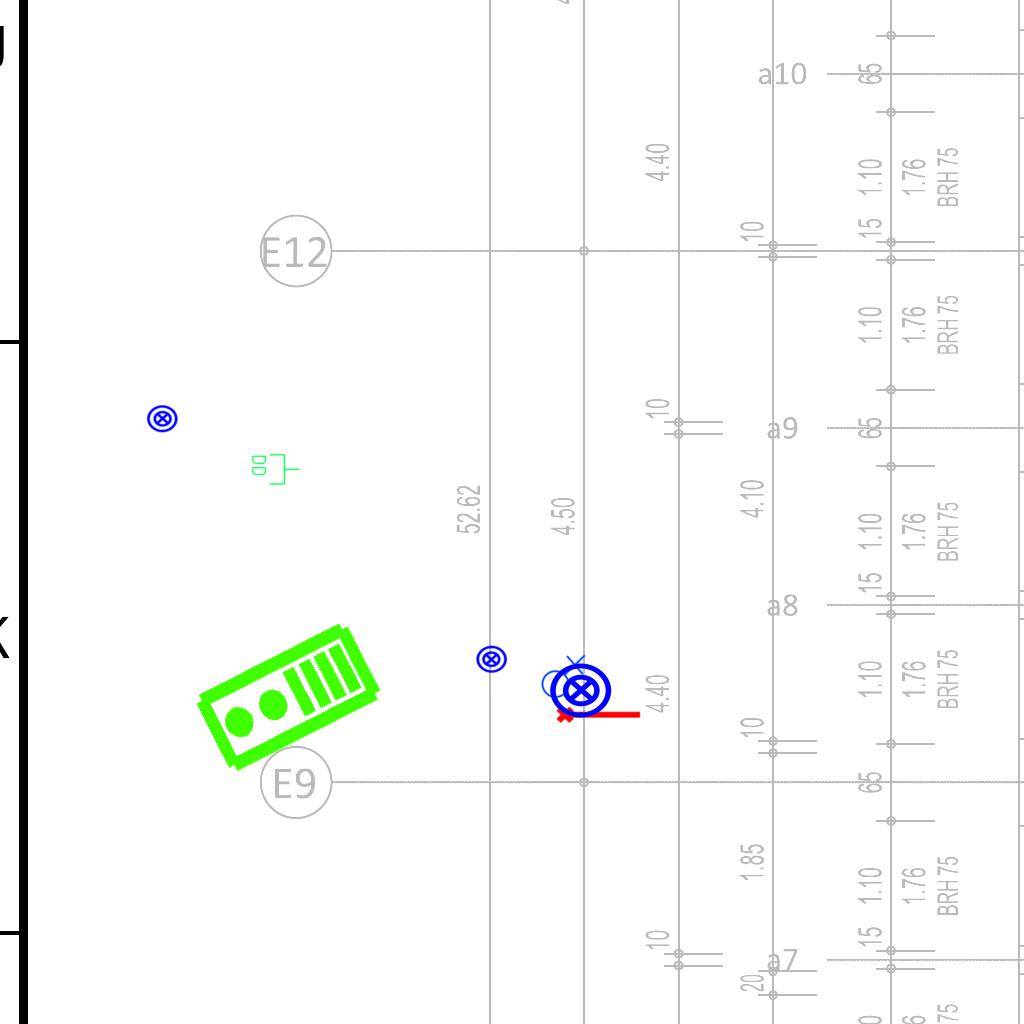ASR_Ansaugoeffnung: (555, 702, 643, 725)
Datenanschluss_zweifach: (250, 452, 301, 486)
Elektroanschluss_allgemein_230V_Geraeteanschlussdose_230V: (537, 652, 586, 699)
Gegensprechanlage_mit_Video: (188, 616, 389, 782)
Taster_beleuchtet: (548, 657, 614, 723), (475, 643, 508, 676), (146, 402, 179, 435)
